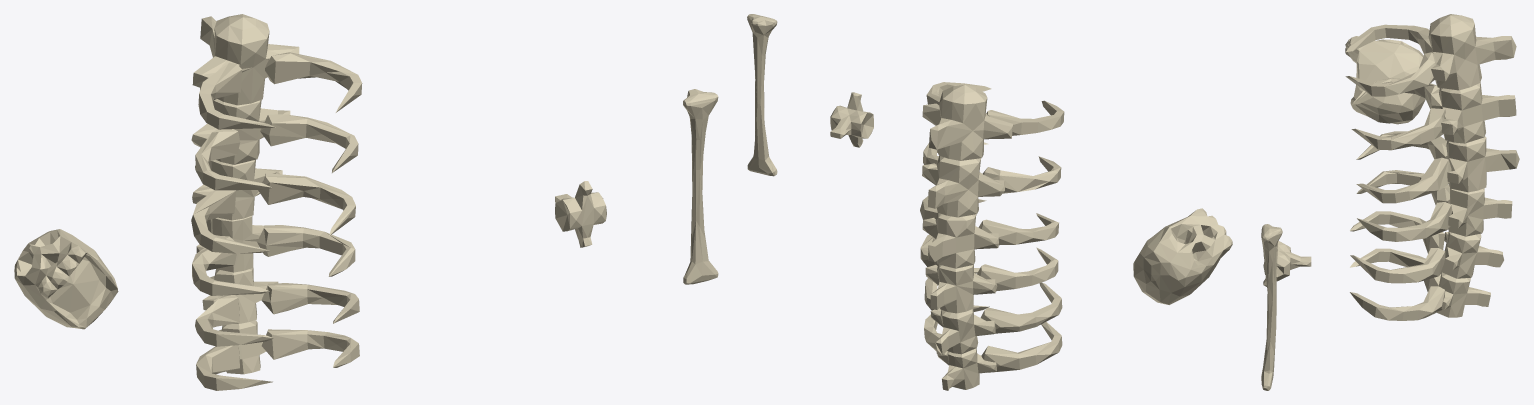
Rendered from skeleton.FBX.
The picture shows the model from 3 angles, left to right: view 1: azimuth 30°, elevation 25°; view 2: azimuth 150°, elevation 25°; view 3: azimuth 270°, elevation 25°; orthographic projection. The views are drawn at different scales.
Parts seen in each view (by area): view 1: skeleton, Skull, Bone, vertebra; view 2: skeleton, Skull, Bone, vertebra; view 3: skeleton, Skull, Bone, vertebra.
Boxes of the visible parts, box(x1,y1,x2,y2) form: skeleton: box(191, 14, 362, 390); Skull: box(14, 229, 118, 329); Bone: box(683, 89, 718, 284); vertebra: box(555, 181, 606, 247); skeleton: box(920, 82, 1064, 390); Skull: box(1133, 208, 1232, 304); Bone: box(747, 14, 777, 176); vertebra: box(830, 92, 873, 147); skeleton: box(1345, 14, 1519, 320); Skull: box(1345, 36, 1425, 124); Bone: box(1261, 224, 1282, 390); vertebra: box(1263, 241, 1311, 286).
Bounding box in the file's own units: 140 × 75.61 × 59.48.
